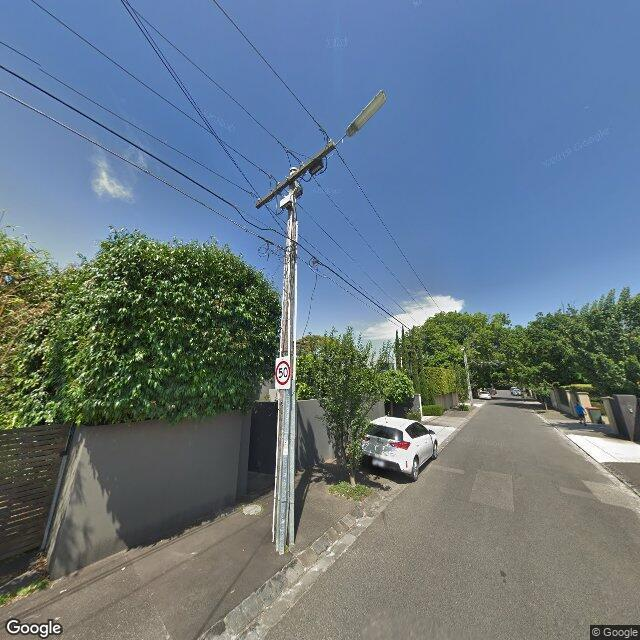crossarm: (256, 127, 340, 210)
streetlight: (336, 89, 387, 147)
timber-pole: (271, 166, 299, 555)
